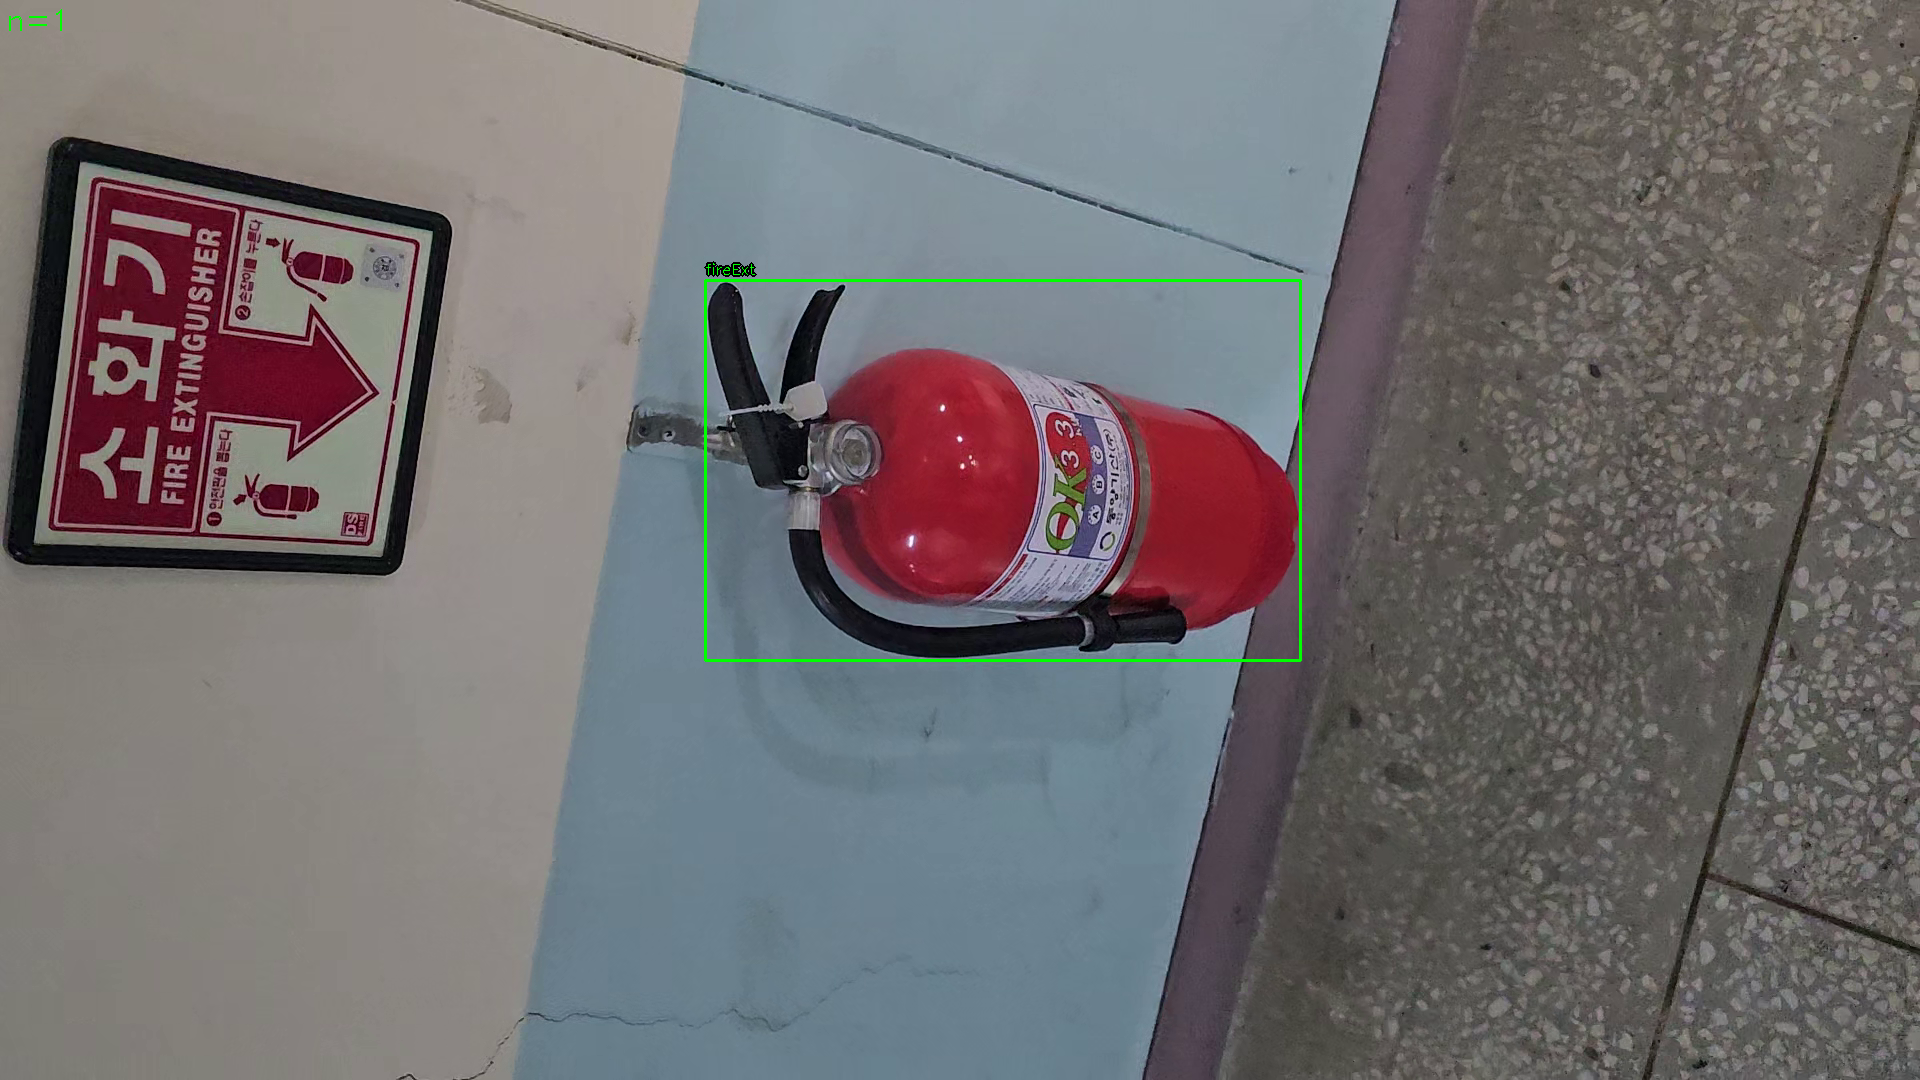lane: (705, 280, 1302, 661)
